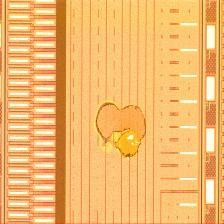PARTICLE: (95, 101, 150, 161)
